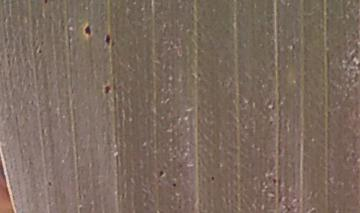tarspot: (80, 22, 94, 38), (101, 81, 114, 97), (102, 31, 112, 47), (155, 167, 167, 179), (32, 45, 45, 56), (304, 204, 318, 213), (268, 175, 280, 185), (167, 180, 179, 188), (206, 173, 217, 181), (45, 179, 54, 188), (194, 69, 201, 79), (41, 1, 50, 8)
